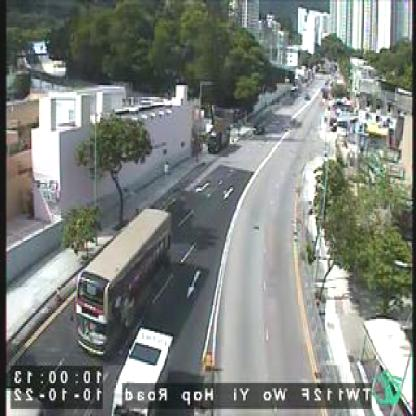Bus: (74, 204, 170, 356), (362, 318, 412, 413)
Car: (117, 328, 175, 386)
